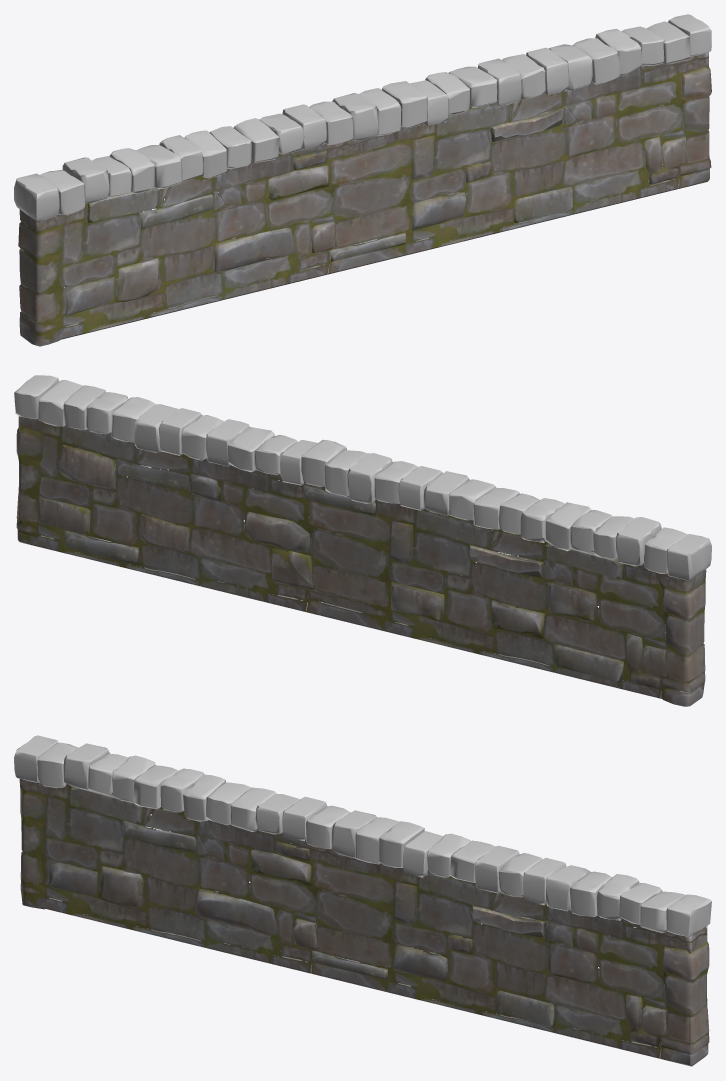
The picture shows the model from 3 angles, top to bottom: view 1: azimuth 30°, elevation 25°; view 2: azimuth 150°, elevation 25°; view 3: azimuth 330°, elevation 25°; orthographic projection.
Parts seen in each view (by area): view 1: SM_River_Bridge_Wall_01_v6_LOD0; view 2: SM_River_Bridge_Wall_01_v6_LOD0; view 3: SM_River_Bridge_Wall_01_v6_LOD0.
Part boxes in pixels (box(x1,y1,x2,y2)): SM_River_Bridge_Wall_01_v6_LOD0: box(14, 14, 711, 346); SM_River_Bridge_Wall_01_v6_LOD0: box(14, 375, 711, 706); SM_River_Bridge_Wall_01_v6_LOD0: box(14, 735, 711, 1066).
Bounding box in the file's own units: 8.09 × 1.83 × 0.528.
